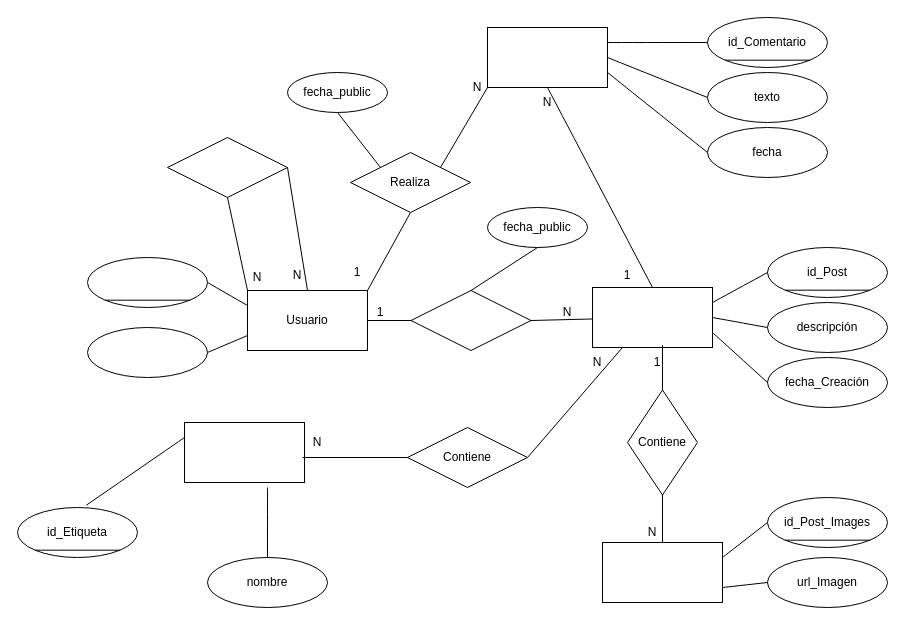
The diagram is 905 pixels wide and 625 high, and some of its shapes have lost their labels. Here are the shapes that lost their labels. From the top down, the centre of each, then its label:
At pixel 547 57: "Comentario".
At pixel 227 167: "Sigue / Le Sigue".
At pixel 147 282: "id_Usuario".
At pixel 470 320: "Publica".
At pixel 652 317: "Post".
At pixel 147 352: "nickName".
At pixel 244 452: "Etiqueta".
At pixel 662 572: "Post_Images".
